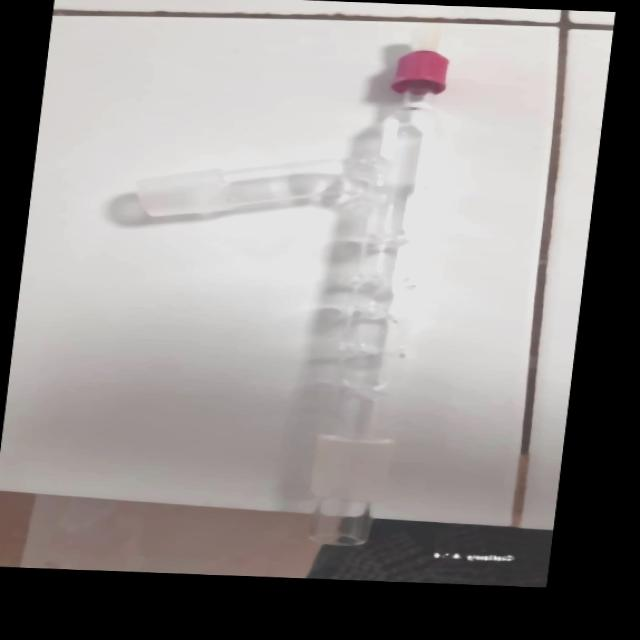Atmospherical Fractional Distillation: (74, 29, 482, 550)
